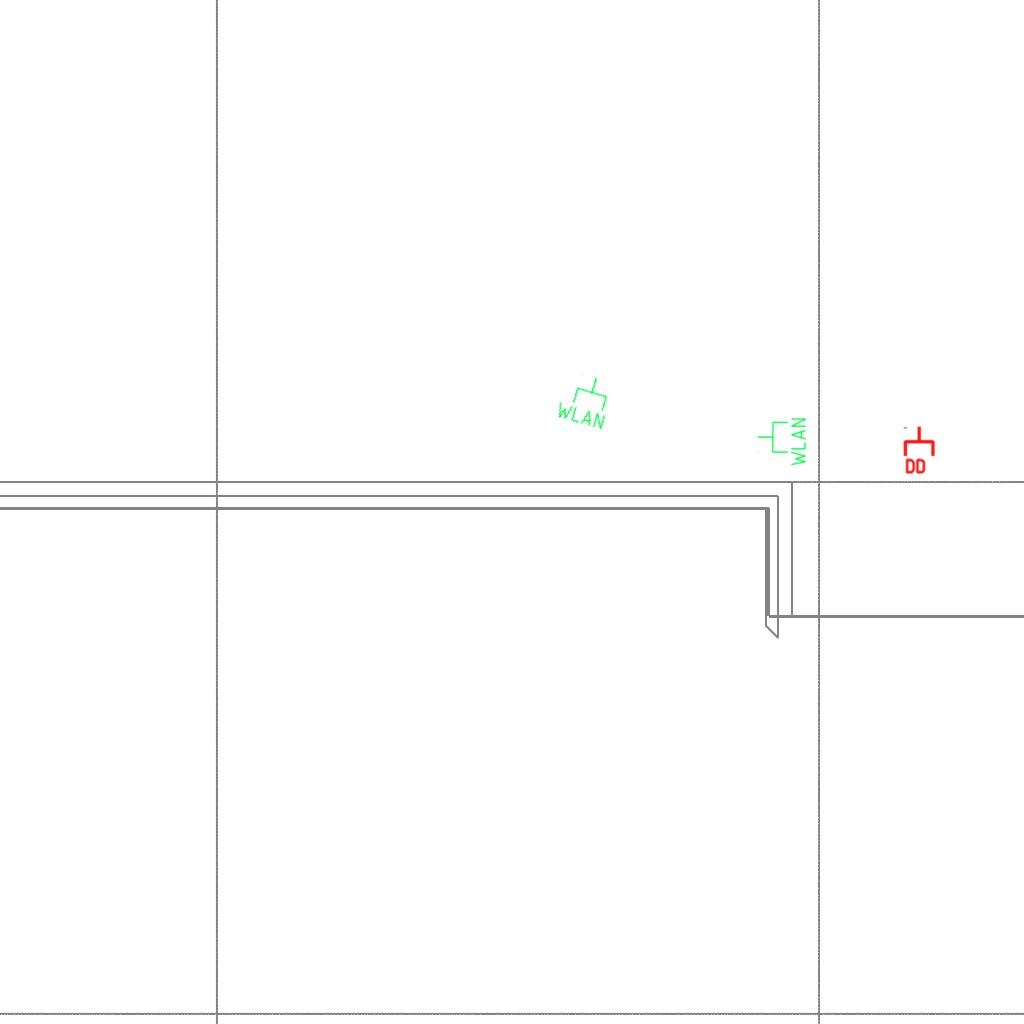Datenanschluss_zweifach: (903, 425, 937, 476)
WLAN: (552, 367, 618, 433), (756, 416, 808, 468)
